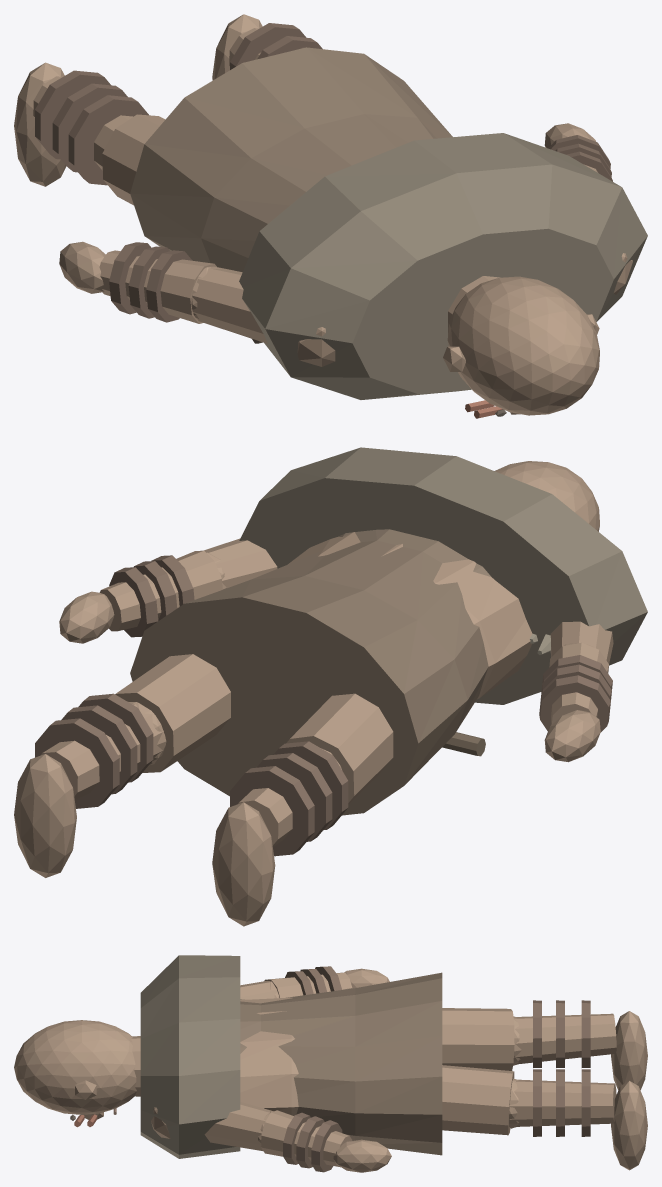
File: man_sturdy__warrior.glb
3 views of the same model, one above another, from view 1: azimuth 30°, elevation 25°; view 2: azimuth 150°, elevation 25°; view 3: azimuth 270°, elevation 25° (orthographic). The views are drawn at different scales.
Visible parts, largest first — view 1: part_043, part_039, part_010, part_018, part_003, part_027, part_000, part_020, part_025, part_026, part_021, part_036 (+8 smaller); view 2: part_039, part_043, part_004, part_008, part_003, part_007, part_000, part_025, part_036, part_031, part_010, part_006 (+17 smaller); view 3: part_039, part_043, part_010, part_004, part_000, part_008, part_006, part_002, part_007, part_003, part_029, part_031 (+18 smaller).
Boxes of the visible parts, x1=… form: part_043: x1=239, y1=133, x2=647, y2=399; part_039: x1=130, y1=47, x2=452, y2=272; part_010: x1=447, y1=276, x2=599, y2=415; part_018: x1=192, y1=267, x2=267, y2=343; part_003: x1=14, y1=62, x2=66, y2=186; part_027: x1=68, y1=95, x2=148, y2=185; part_000: x1=102, y1=114, x2=165, y2=205; part_020: x1=99, y1=250, x2=216, y2=323; part_025: x1=35, y1=70, x2=110, y2=159; part_026: x1=52, y1=83, x2=127, y2=172; part_021: x1=59, y1=241, x2=105, y2=293; part_036: x1=230, y1=23, x2=305, y2=69; part_039: x1=130, y1=529, x2=491, y2=815; part_043: x1=239, y1=447, x2=647, y2=704; part_004: x1=115, y1=654, x2=230, y2=772; part_008: x1=288, y1=532, x2=532, y2=699; part_003: x1=212, y1=802, x2=275, y2=926; part_007: x1=14, y1=754, x2=76, y2=877; part_000: x1=286, y1=693, x2=393, y2=804; part_025: x1=230, y1=766, x2=314, y2=856; part_036: x1=35, y1=718, x2=119, y2=808; part_031: x1=100, y1=550, x2=222, y2=631; part_010: x1=494, y1=461, x2=599, y2=531; part_006: x1=40, y1=704, x2=163, y2=799; part_039: x1=240, y1=972, x2=442, y2=1155; part_043: x1=140, y1=955, x2=240, y2=1158; part_010: x1=14, y1=1020, x2=136, y2=1114; part_004: x1=442, y1=1065, x2=514, y2=1135; part_000: x1=442, y1=1008, x2=514, y2=1070; part_008: x1=240, y1=997, x2=298, y2=1115; part_006: x1=509, y1=1079, x2=616, y2=1126; part_002: x1=514, y1=1013, x2=616, y2=1064; part_007: x1=611, y1=1081, x2=647, y2=1170; part_003: x1=611, y1=1011, x2=647, y2=1090; part_029: x1=204, y1=1102, x2=272, y2=1150; part_031: x1=261, y1=1110, x2=352, y2=1167.
Size of the model in its own units: 1.71 by 0.6967 by 2.48.
